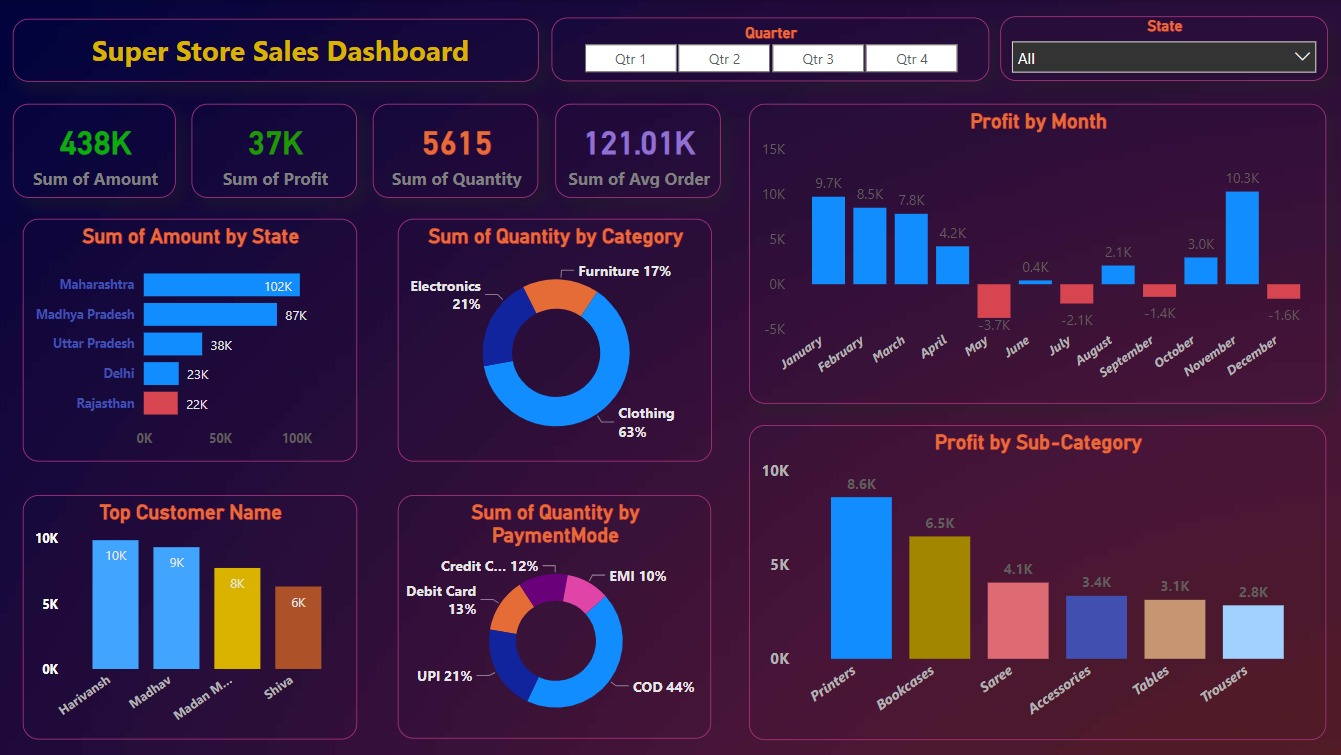

The page's visual inventory and layout, read from the dashboard file:
{"tool":"powerbi","page":{"name":"Page 1","canvas":[1280,720],"ordinal":0},"visuals":[{"type":"textbox","box":[13.5,17.4,500.9,60.4],"z":0,"group":"g1"},{"type":"columnChart","title":"Profit by Month","fields":{"Category":["Orders.Order Date.Variation.Date Hierarchy.Month"],"Y":["Sum(Details.Profit)"]},"box":[714,98.8,549.8,285.6],"z":1000,"group":"g1"},{"type":"columnChart","title":"Profit by Sub-Category","fields":{"Category":["Details.Sub-Category"],"Y":["Sum(Details.Profit)"]},"box":[714,404.1,549.5,300.4],"z":2000,"group":"g1"},{"type":"donutChart","fields":{"Category":["Details.Category"],"Y":["Sum(Details.Quantity)"]},"box":[379.1,208.6,299.2,231.3],"z":3000,"group":"g1"},{"type":"donutChart","fields":{"Y":["Sum(Details.Quantity)"],"Category":["Details.PaymentMode"]},"box":[379.6,471.3,298.7,232.1],"z":4000,"group":"g1"},{"type":"card","fields":{"Values":["Sum(Details.Amount)"]},"box":[13.1,98.9,155,89.4],"z":5000,"group":"g1"},{"type":"card","fields":{"Values":["Sum(Details.Profit)"]},"box":[183.6,98.9,157.3,89.4],"z":6000,"group":"g1"},{"type":"card","fields":{"Values":["Sum(Details.Quantity)"]},"box":[356.4,98.9,157.3,89.4],"z":7000,"group":"g1"},{"type":"card","fields":{"Values":["Sum(Details.Avg Order)"]},"box":[529.2,98.9,157.3,89.4],"z":8000,"group":"g1"},{"type":"clusteredBarChart","fields":{"Category":["Orders.State"],"Y":["Sum(Details.Amount)"]},"box":[22.6,208.6,318.3,231.3],"z":9000,"group":"g1"},{"type":"columnChart","title":"Top Customer Name","fields":{"Category":["Orders.CustomerName"],"Y":["Sum(Details.Amount)"]},"box":[22.6,470.9,318.3,232.4],"z":10000,"group":"g1"},{"type":"slicer","title":"Quarter","fields":{"Values":["Orders.Order Date.Variation.Date Hierarchy.Quarter"]},"box":[525.6,17.1,416.5,60.7],"z":11000,"group":"g1"},{"type":"slicer","title":"State","fields":{"Values":["Orders.State"]},"box":[953.4,15.5,311.8,61.9],"z":13000,"group":"g1"},{"type":"group","id":"g1","title":"Group 1","box":[13.1,15.5,1252,689.1],"z":13001}]}

Visuals, with their boxes in screenshot pixels (x1, y1, x2, y2), scaled from the page's 1280x720 canvas onto the 1341x755 screenshot:
textbox: 14/18/539/82
"Profit by Month" columnChart: 748/104/1324/403
"Profit by Sub-Category" columnChart: 748/424/1324/739
donutChart - Details.Category x Sum(Details.Quantity): 397/219/711/461
donutChart - Sum(Details.Quantity) x Details.PaymentMode: 398/494/711/738
card - Sum(Details.Amount): 14/104/176/197
card - Sum(Details.Profit): 192/104/357/197
card - Sum(Details.Quantity): 373/104/538/197
card - Sum(Details.Avg Order): 554/104/719/197
clusteredBarChart - Orders.State x Sum(Details.Amount): 24/219/357/461
"Top Customer Name" columnChart: 24/494/357/737
"Quarter" slicer: 551/18/987/82
"State" slicer: 999/16/1325/81
"Group 1" group: 14/16/1325/739
